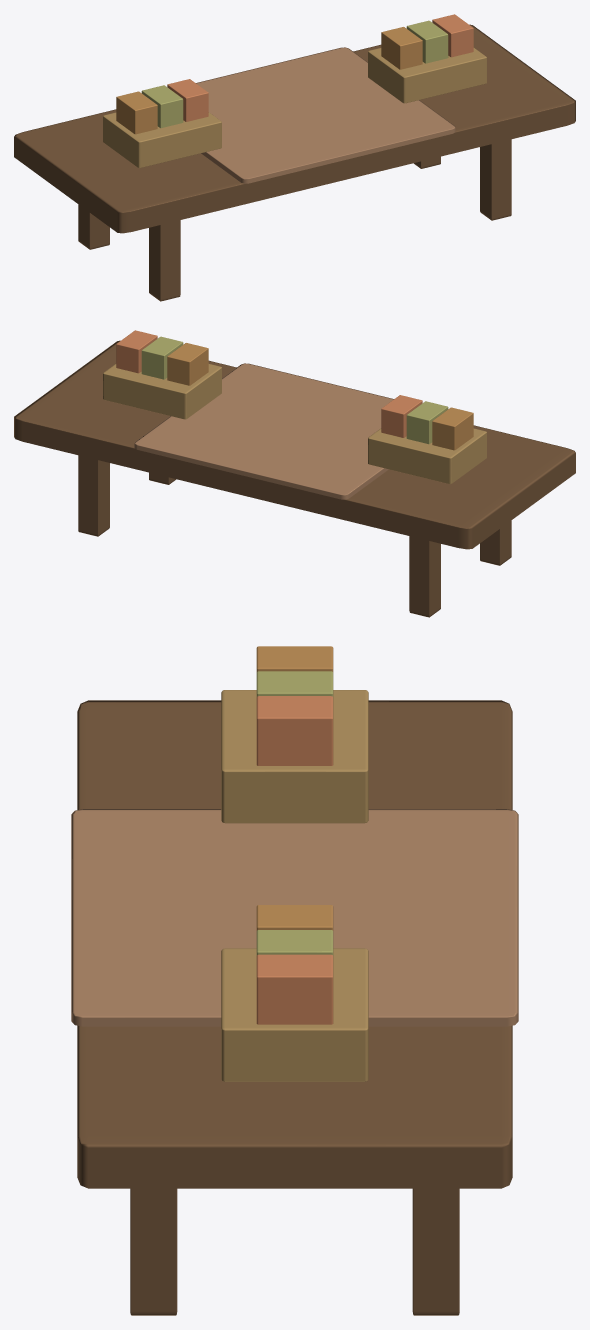
Rendered from harvesttable-3.glb.
3 renders of one model, top to bottom at view 1: azimuth 30°, elevation 25°; view 2: azimuth 150°, elevation 25°; view 3: azimuth 270°, elevation 25°, orthographic. The views are drawn at different scales.
Parts seen in each view (by area): view 1: harvesttable-3-0; view 2: harvesttable-3-0; view 3: harvesttable-3-0.
Boxes of the visible parts, <box> form: harvesttable-3-0: <box>14,14,575,301</box>; harvesttable-3-0: <box>14,330,575,617</box>; harvesttable-3-0: <box>71,646,518,1315</box>.
Size of the model in its own units: 1.8 by 0.625 by 0.76.
